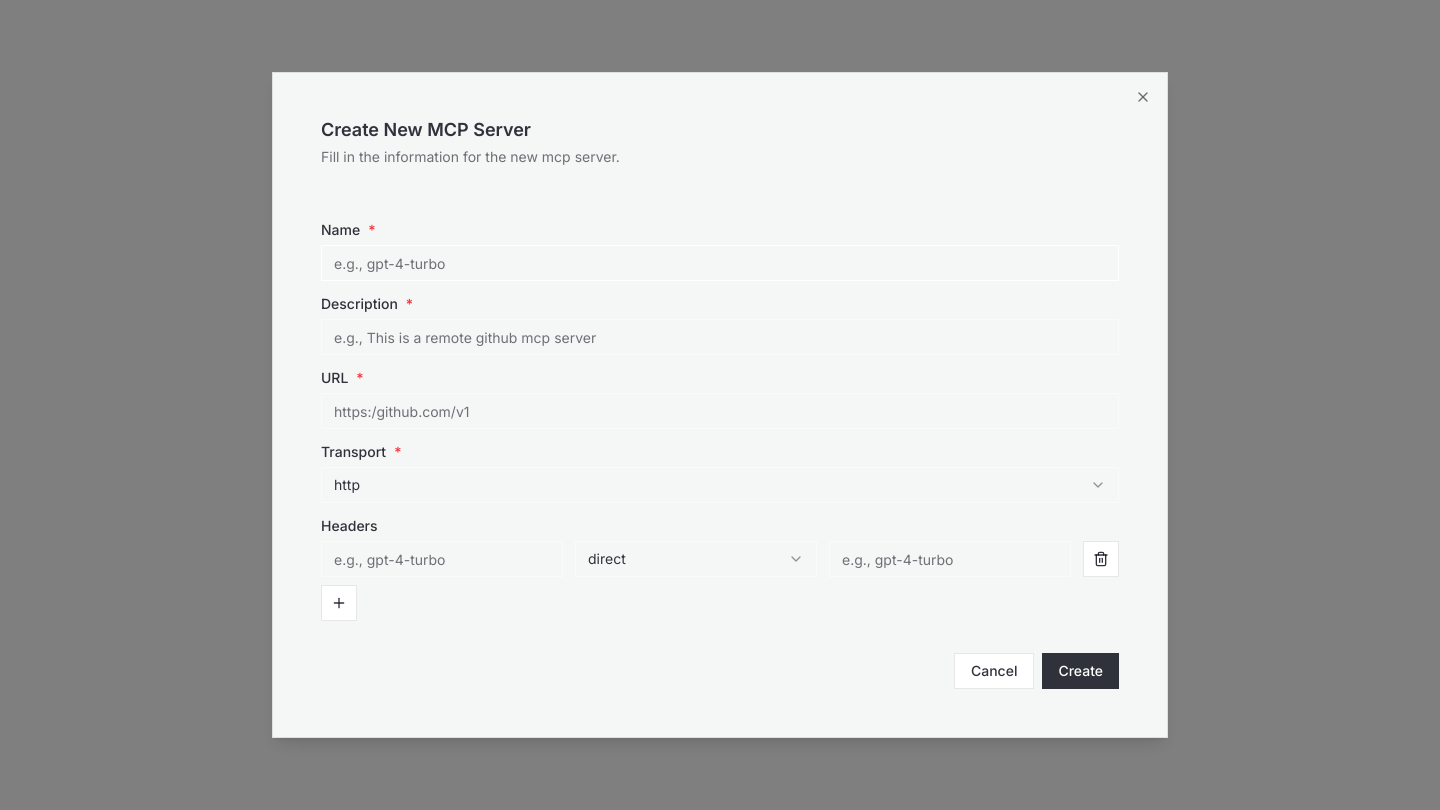
Test: McpEditor › validation › should show error when name is empty on submit
Click the button "Create".
click(1081, 671)  # box [1042,653,1119,689]
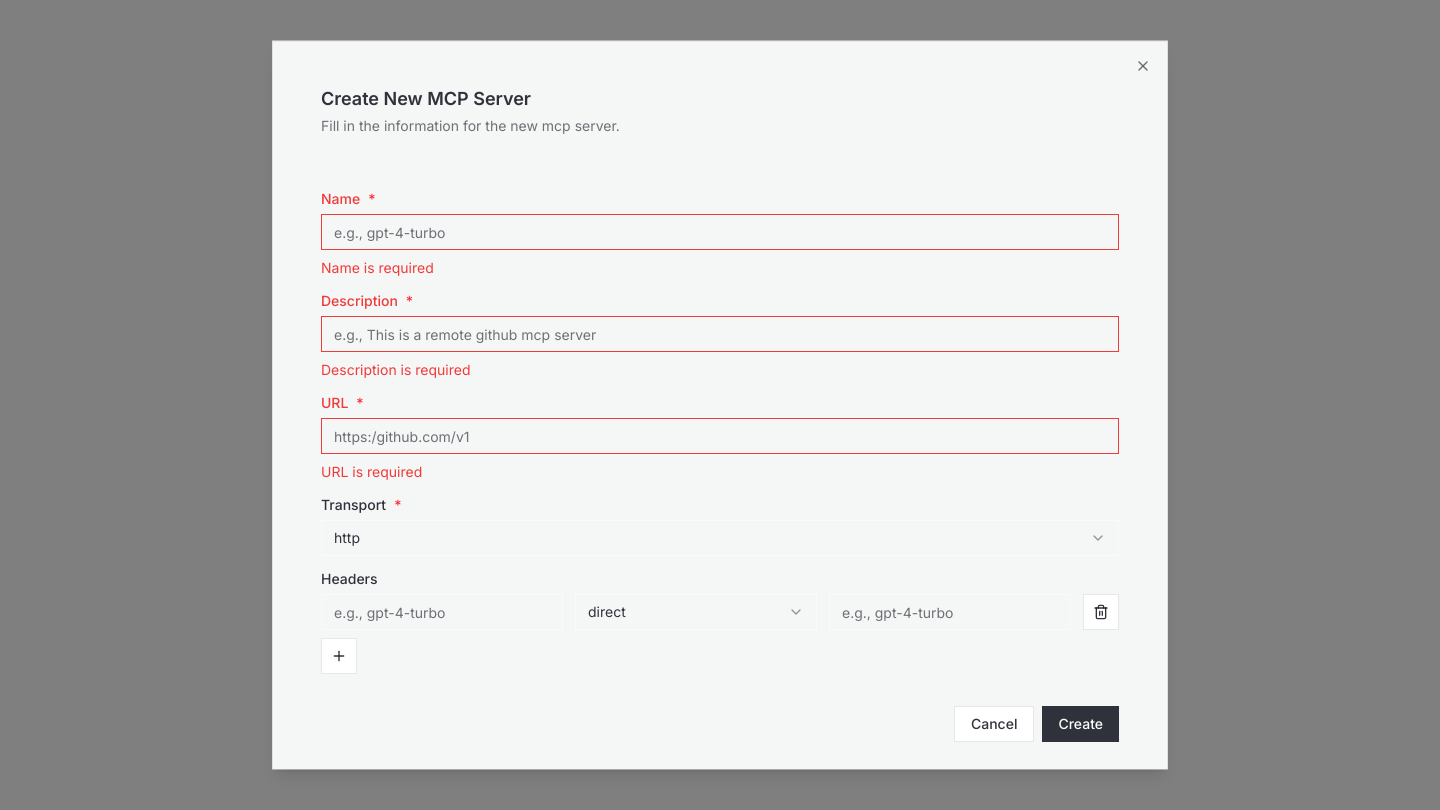
Now the text "Name is required" is shown, box [321,258,434,276]
